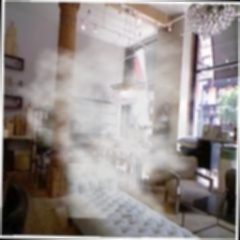smoke: (22, 62, 168, 195)
